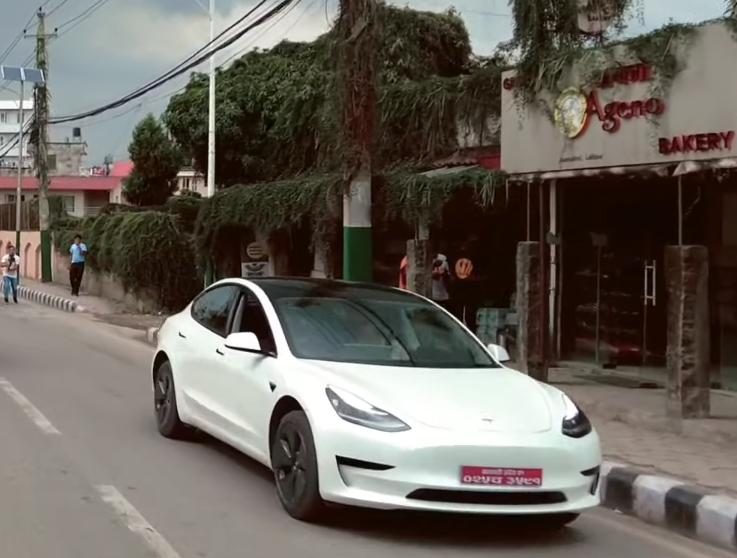car: (144, 263, 599, 537)
